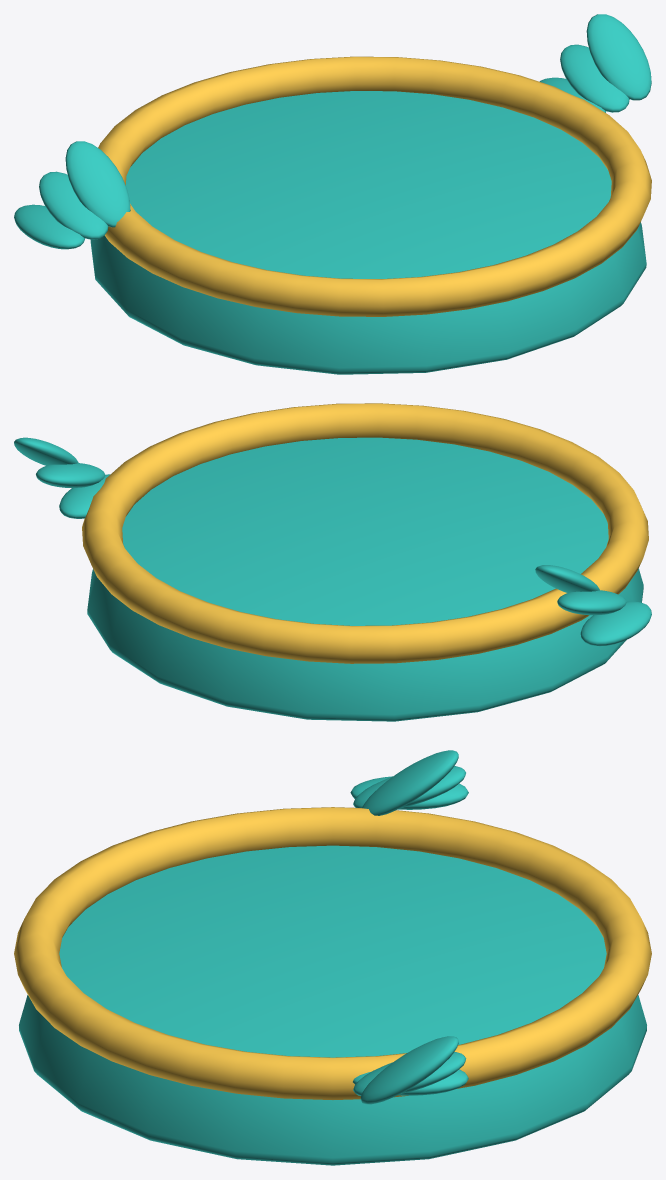
The model's file is lobby.glb.
The picture shows the model from 3 angles, top to bottom: view 1: azimuth 30°, elevation 25°; view 2: azimuth 150°, elevation 25°; view 3: azimuth 270°, elevation 25°; orthographic projection. The views are drawn at different scales.
Parts seen in each view (by area): view 1: Hero pedestal, Torus.018, Pedestal succulent.005, Pedestal succulent.002, Pedestal succulent.004, Pedestal succulent.001, Pedestal succulent; view 2: Hero pedestal, Torus.018, Pedestal succulent, Pedestal succulent.001, Pedestal succulent.004, Pedestal succulent.005, Pedestal succulent.002, Pedestal succulent.003; view 3: Hero pedestal, Torus.018, Pedestal succulent.005, Pedestal succulent.002, Pedestal succulent.004, Pedestal succulent.001, Pedestal succulent, Pedestal succulent.003.
Part boxes in pixels (x1,y1,x2,y2): Hero pedestal: (90, 91, 646, 374); Torus.018: (98, 56, 651, 316); Pedestal succulent.005: (586, 14, 651, 100); Pedestal succulent.002: (65, 141, 130, 227); Pedestal succulent.004: (560, 44, 629, 112); Pedestal succulent.001: (39, 171, 108, 239); Pedestal succulent: (14, 204, 84, 249); Hero pedestal: (87, 437, 643, 721); Torus.018: (82, 403, 648, 663); Pedestal succulent: (580, 601, 651, 646); Pedestal succulent.001: (557, 590, 626, 615); Pedestal succulent.004: (36, 463, 105, 487); Pedestal succulent.005: (14, 437, 78, 465); Pedestal succulent.002: (535, 565, 599, 592); Pedestal succulent.003: (59, 474, 110, 518); Hero pedestal: (19, 845, 646, 1165); Torus.018: (14, 807, 651, 1099); Pedestal succulent.005: (360, 1036, 458, 1104); Pedestal succulent.002: (362, 750, 458, 815); Pedestal succulent.004: (353, 1052, 466, 1095); Pedestal succulent.001: (353, 766, 465, 808); Pedestal succulent: (350, 776, 468, 809); Pedestal succulent.003: (353, 1069, 468, 1095).
Bounding box in the file's own units: 2.3 × 0.4852 × 1.83.
